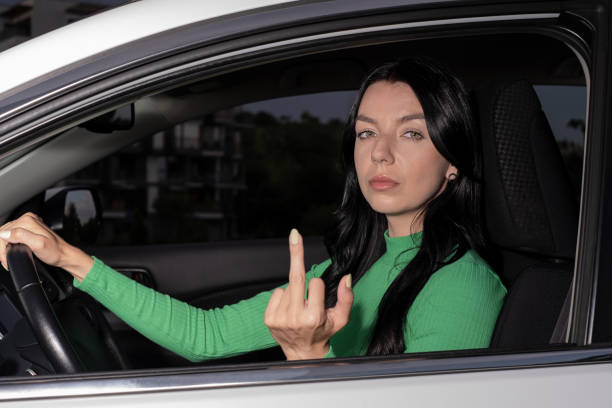insulting_gesture: (264, 230, 354, 362)
